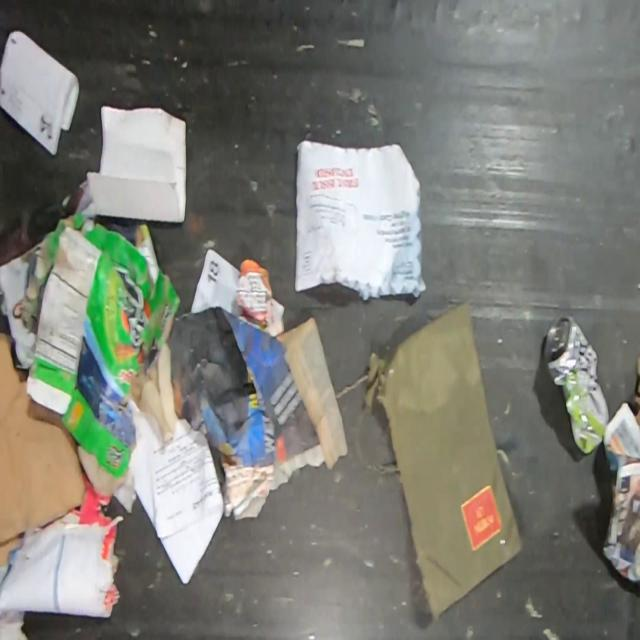cardboard: (25, 214, 182, 478), (0, 332, 87, 569)
metal: (543, 314, 610, 457)
soft_plastic: (363, 296, 524, 614)
